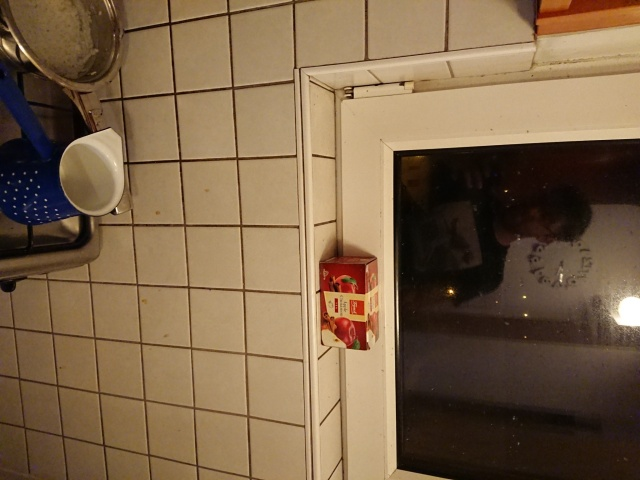Franck Apple Cinnamon Tea 60g: (316, 252, 383, 353)
